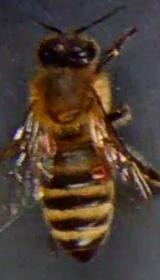varroa_mite: (86, 158, 114, 185)
